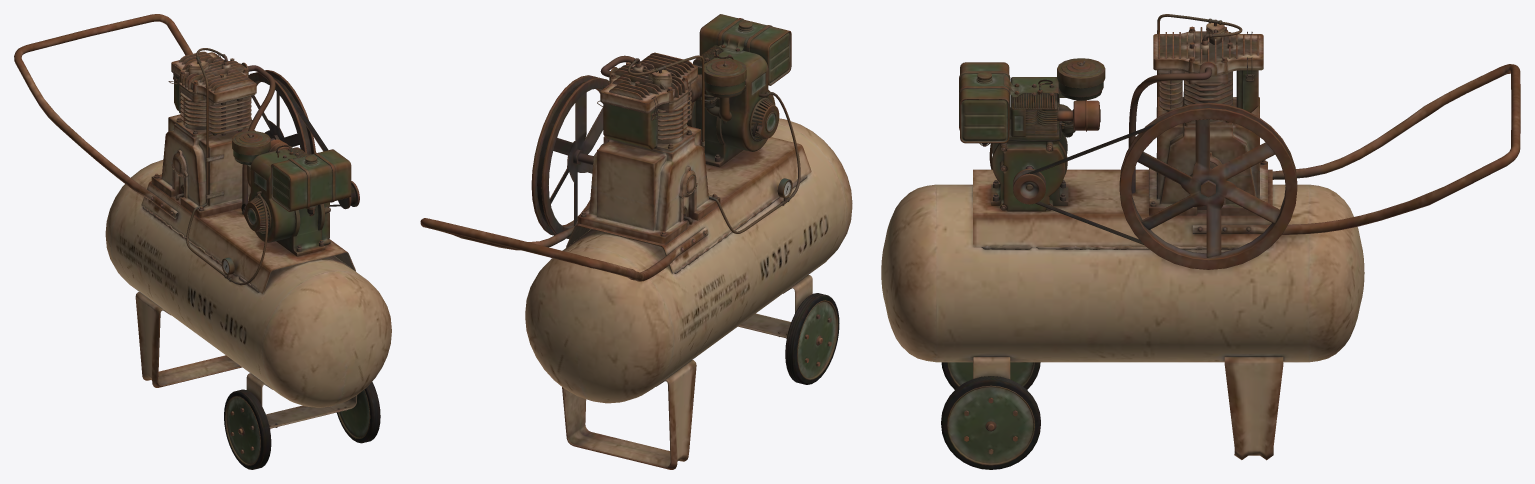
The model's file is old_military_compressor.glb.
The picture shows the model from 3 angles, left to right: view 1: azimuth 30°, elevation 25°; view 2: azimuth 150°, elevation 25°; view 3: azimuth 270°, elevation 25°; orthographic projection. The views are drawn at different scales.
Parts seen in each view (by area): view 1: old_military_compressor; view 2: old_military_compressor; view 3: old_military_compressor.
Boxes of the visible parts, x1,y1,x2,y2 form: old_military_compressor: (14, 14, 391, 469); old_military_compressor: (420, 14, 852, 469); old_military_compressor: (881, 14, 1520, 469).
Bounding box in the file's own units: 0.5983 × 1.18 × 1.68.
2 materials, 2 textured.
